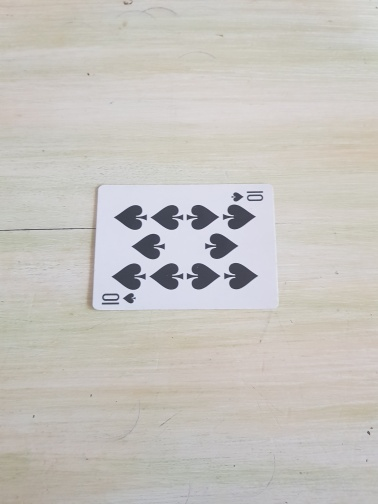ten: (90, 184, 278, 312)
